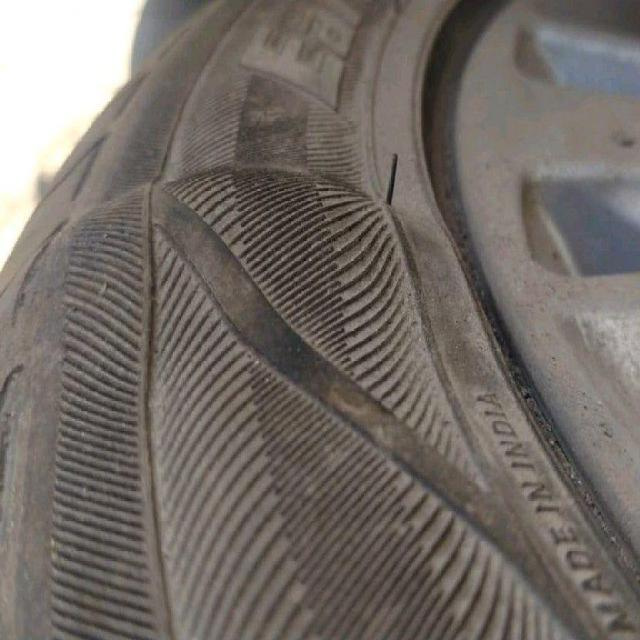Bulge: (42, 147, 440, 390)
